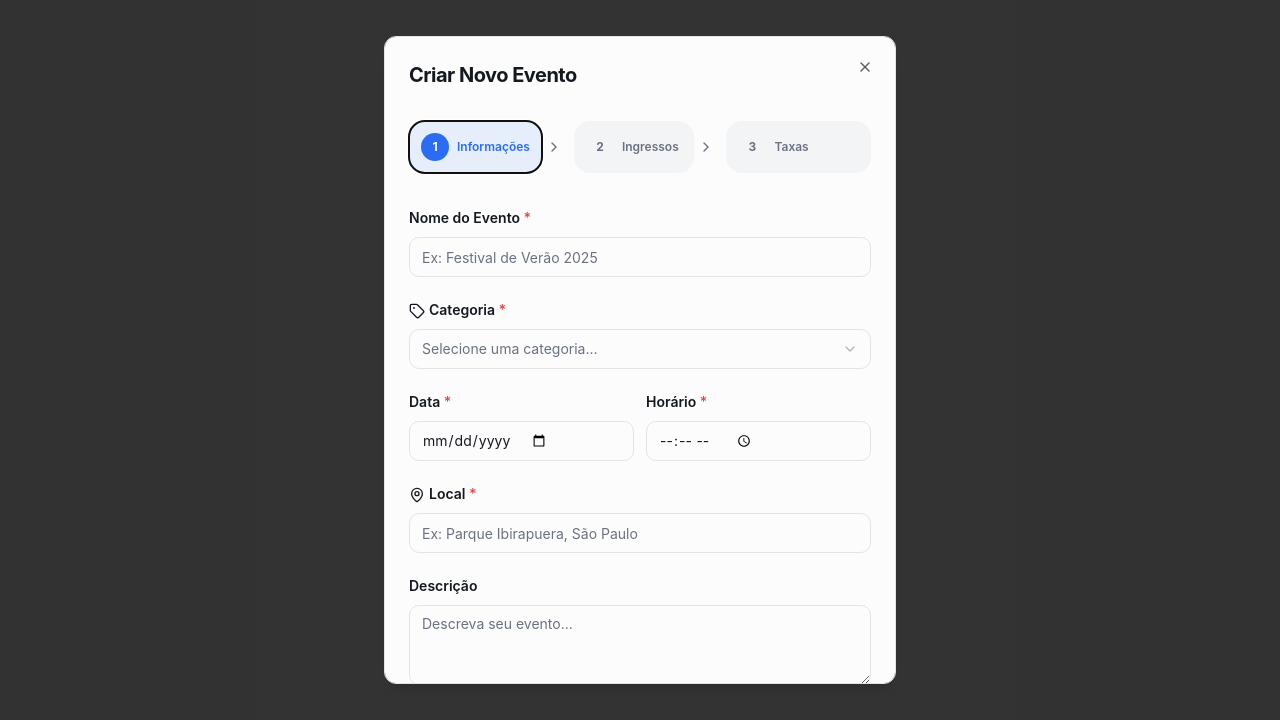
it: CreateEventForm – validação por etapa › o stepper não permite pular para etapas à frente com dados inválidos
The width and height of the screenshot is (1280, 720).
What coordinates should you click on to do the following:
click the button "3 Taxas"
I would click on:
 (799, 147)
Its box is [726,121,871,173].
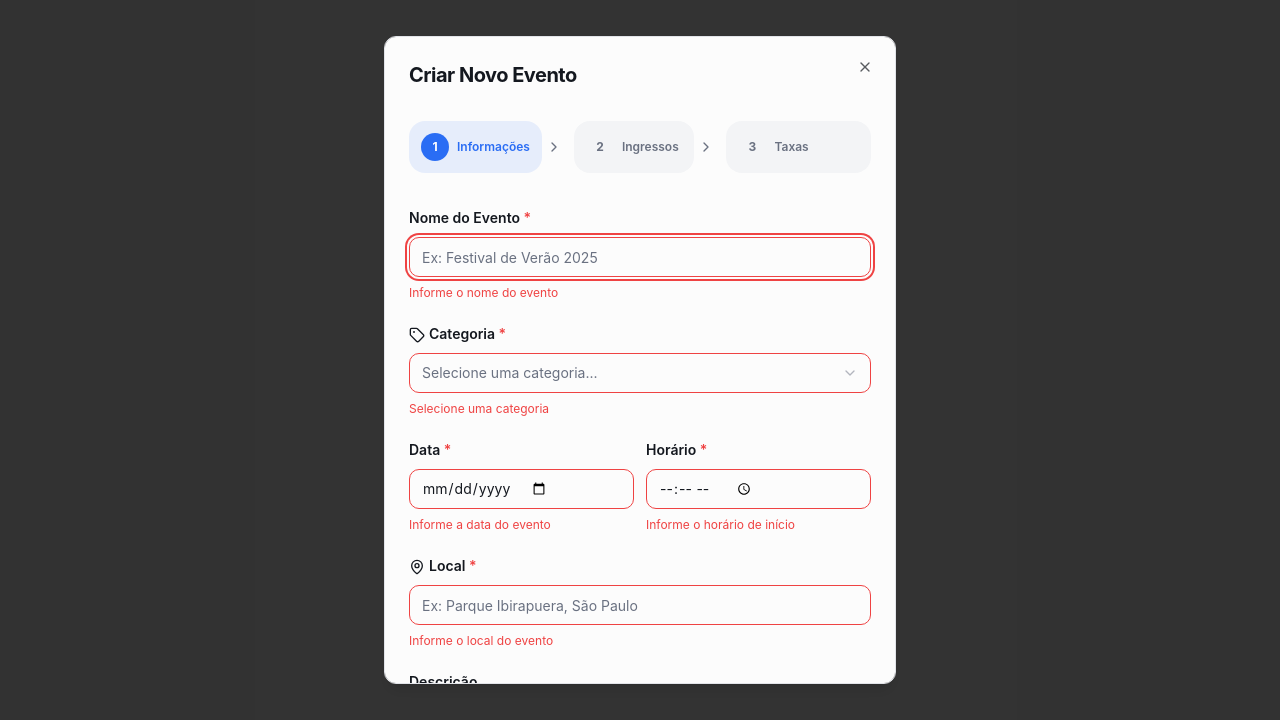
Check: the text "Informe o nome do evento" is shown, box [409,285,558,300]
